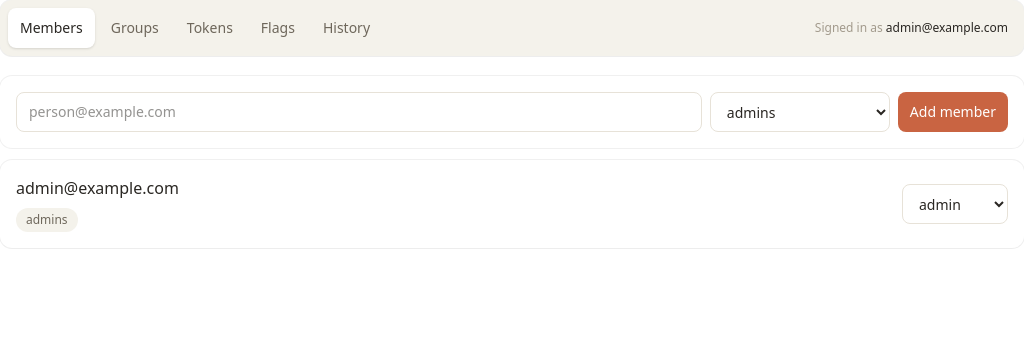
Test: AccessAdmin groups tab › does not submit when the name has no slug characters
Click the tab "groups" at (135, 28), box [99,8,171,48]
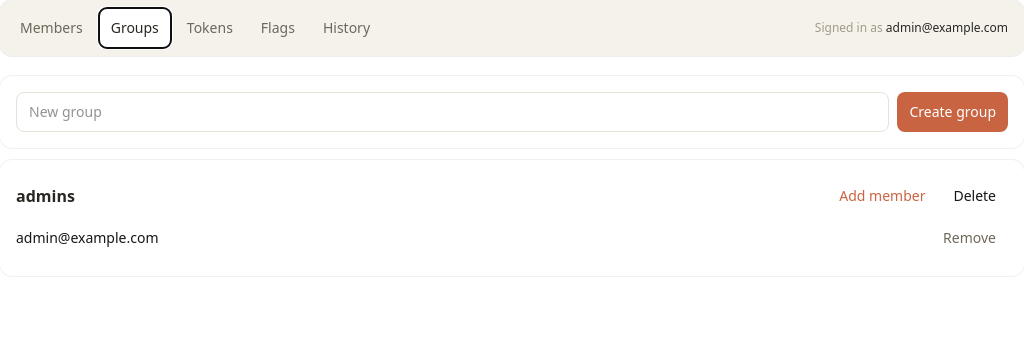
Type "!!!" into the field with placeholder "New group" at (453, 112), box [16,92,890,132]
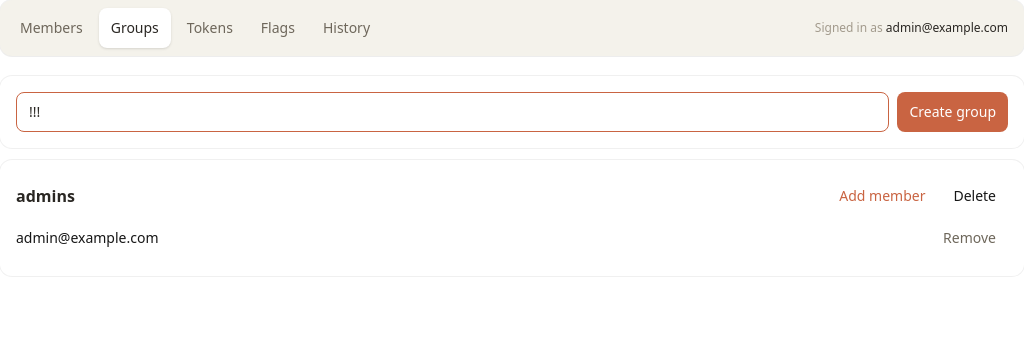
Click the button "Create group" at (953, 112), box [898,92,1008,132]
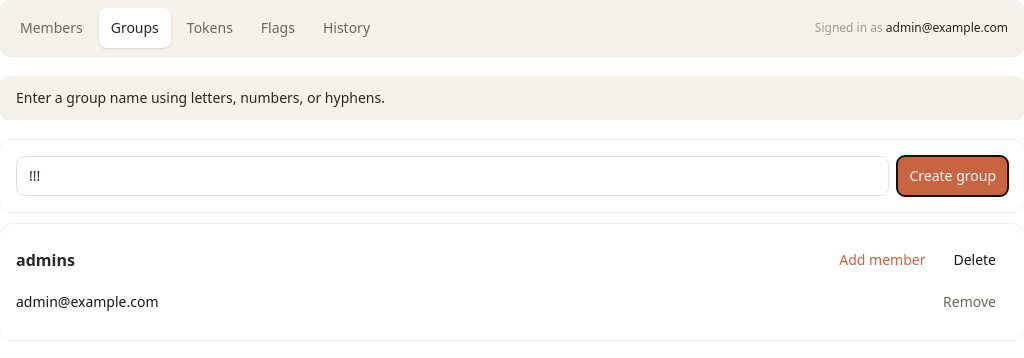
Now the text "Enter a group name using letters, numbers, or hyphens." is shown, box [0,76,1023,120]
